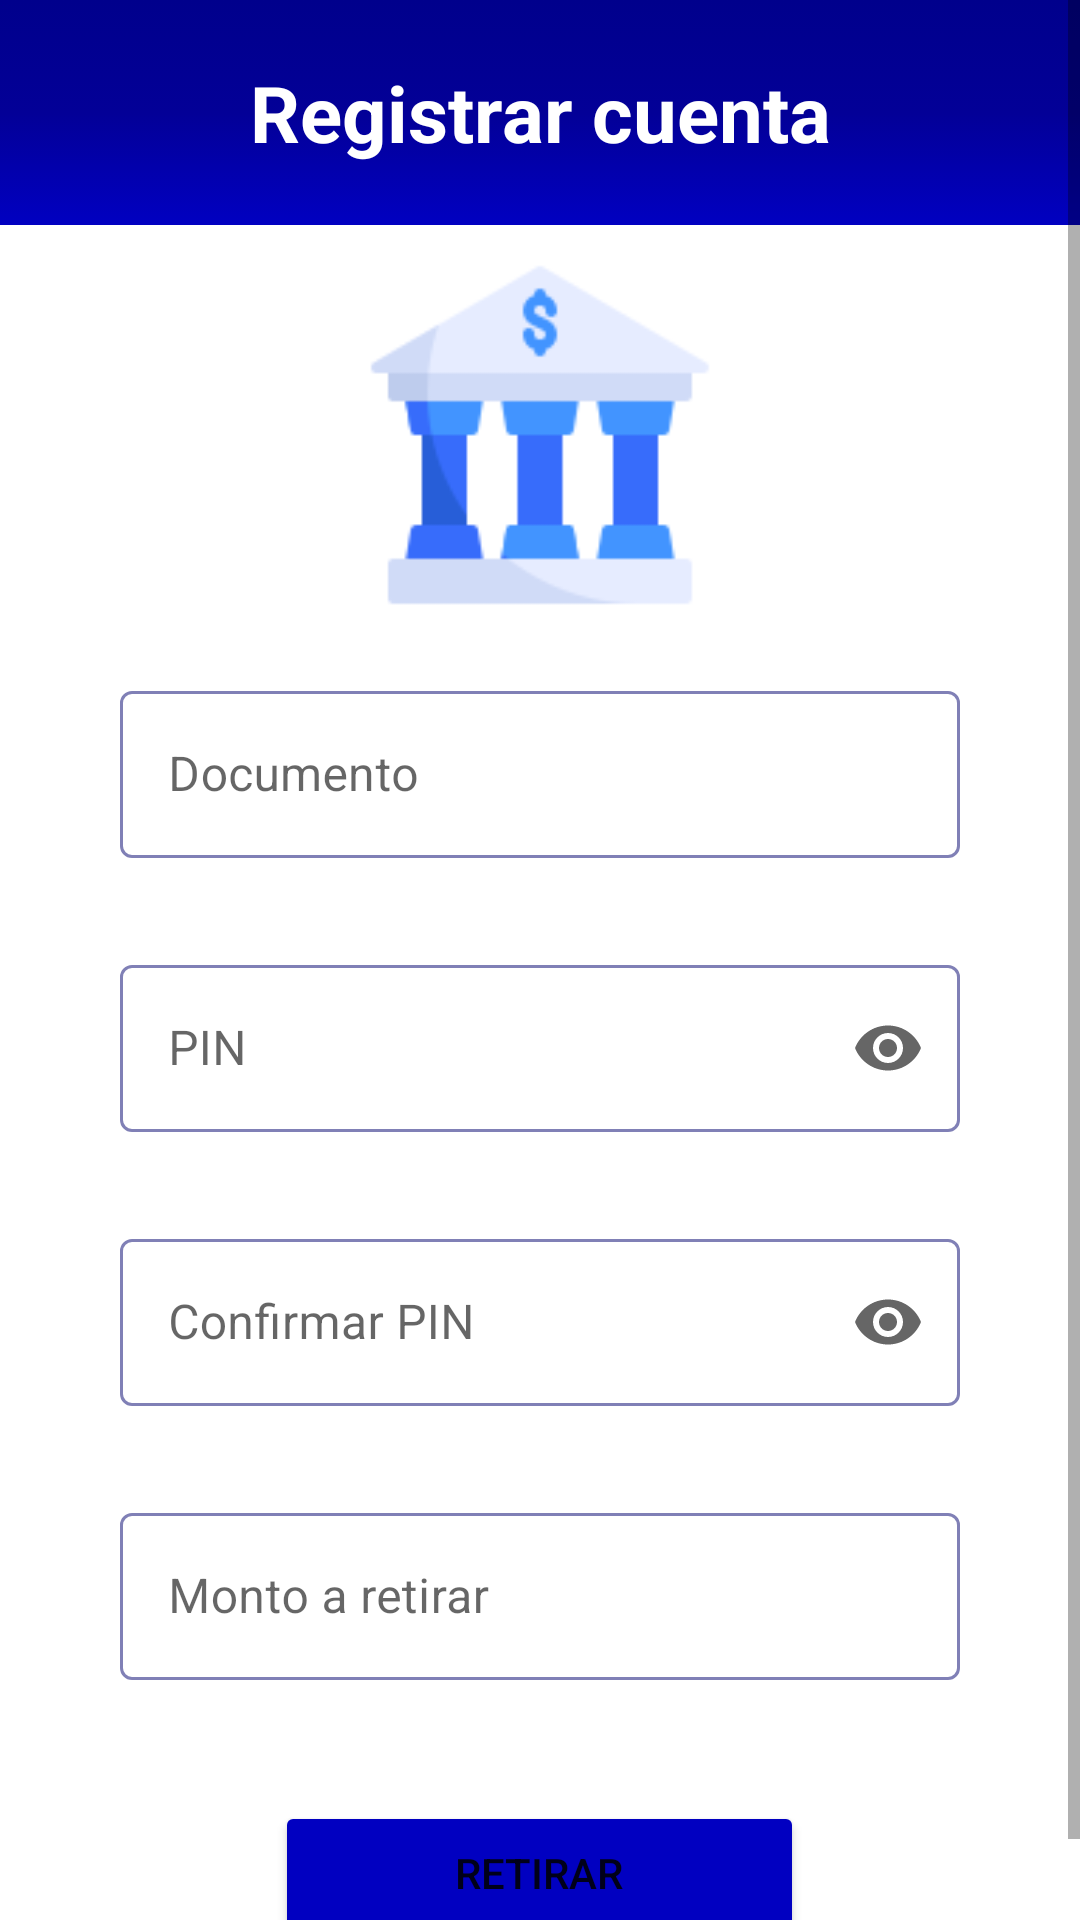

Screen size 1080x1920. Icon name, then its box in pixels as box(x1, y1, x2, y2):
banco: box(371, 270, 705, 604)
